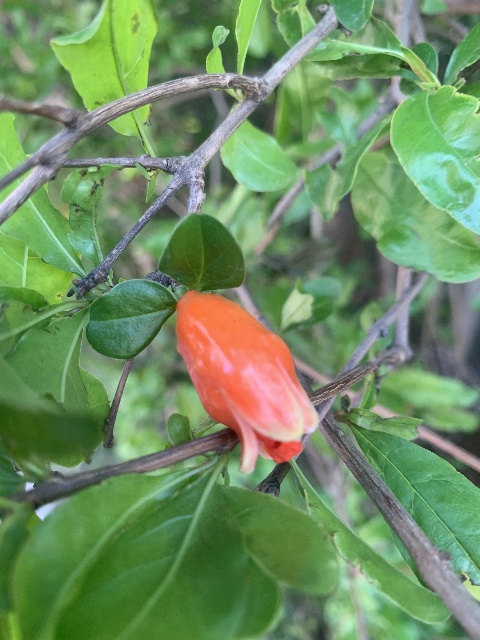flower: (174, 291, 319, 472)
